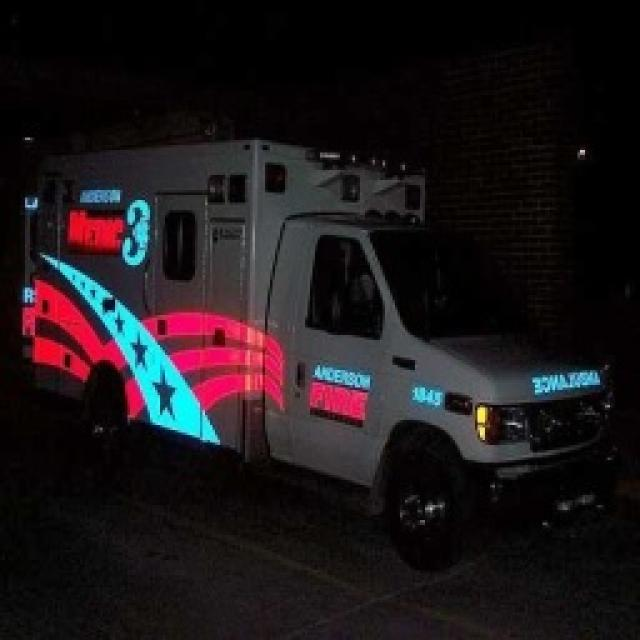emergency-vehicle: (8, 101, 640, 628)
